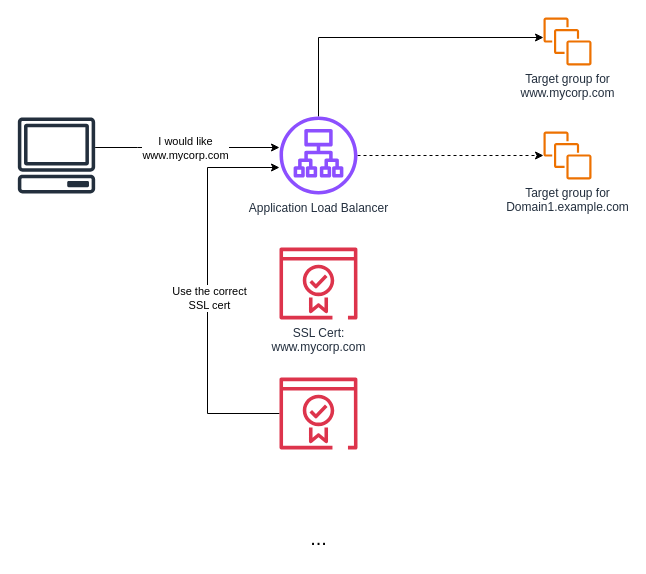
The diagram is 646 pixels wide and 574 high, and some of its shapes have lost their labels. Here are the shapes that lost their labels. From the top down, the centre of each, then its label:
pixel 56 155: Client
pixel 318 413: SSL Cert: Domain1.example.com
